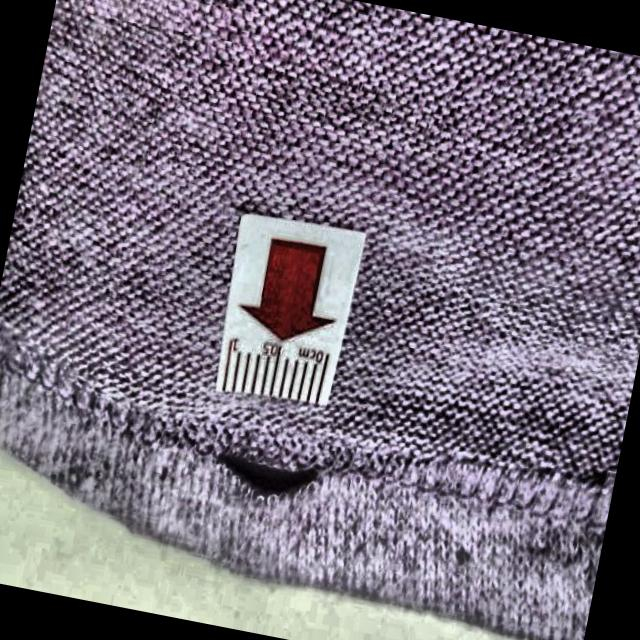gray stitch: (200, 422, 342, 519)
